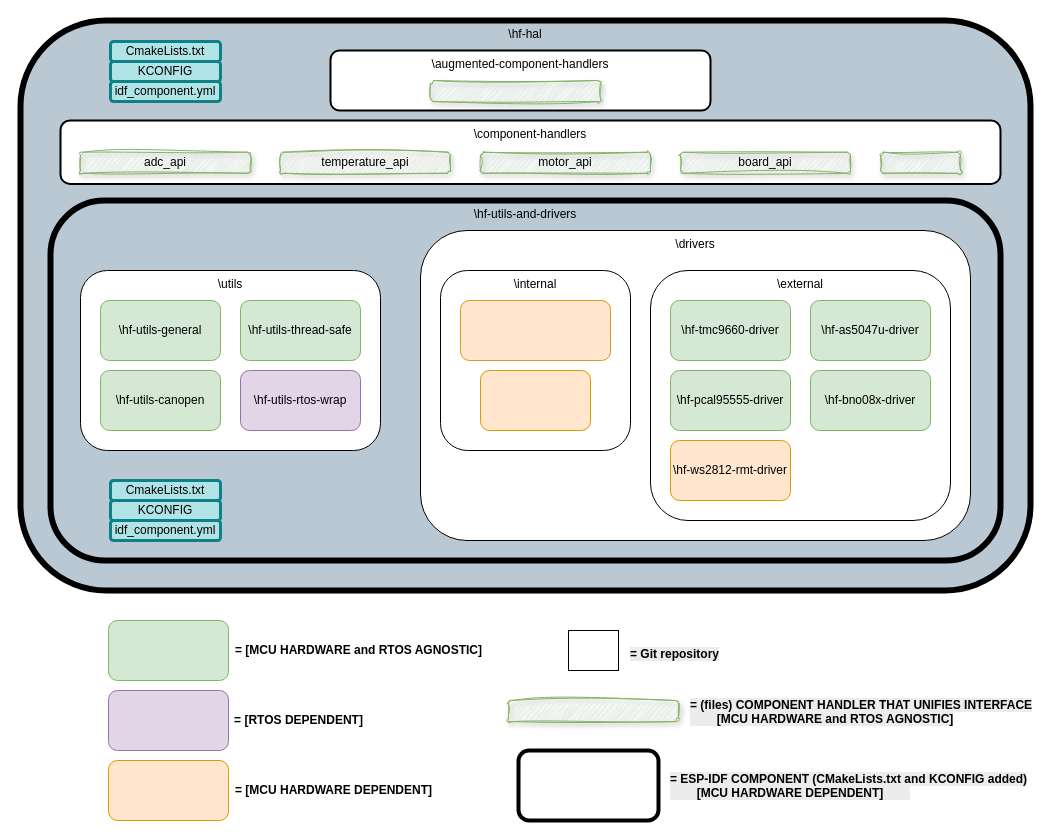
Image size: 1050x839. Some labels were removed from this diagram. The centre of each missing label's shape, as x and y in pixels:
"...etc" belongs at pixel 921 163.
"\hf-" belongs at pixel 593 650.
"\hf-internal-interface-wrap" belongs at pixel 535 330.
"\hf-pincfg" belongs at pixel 535 400.
"hf_api" belongs at pixel 516 92.
